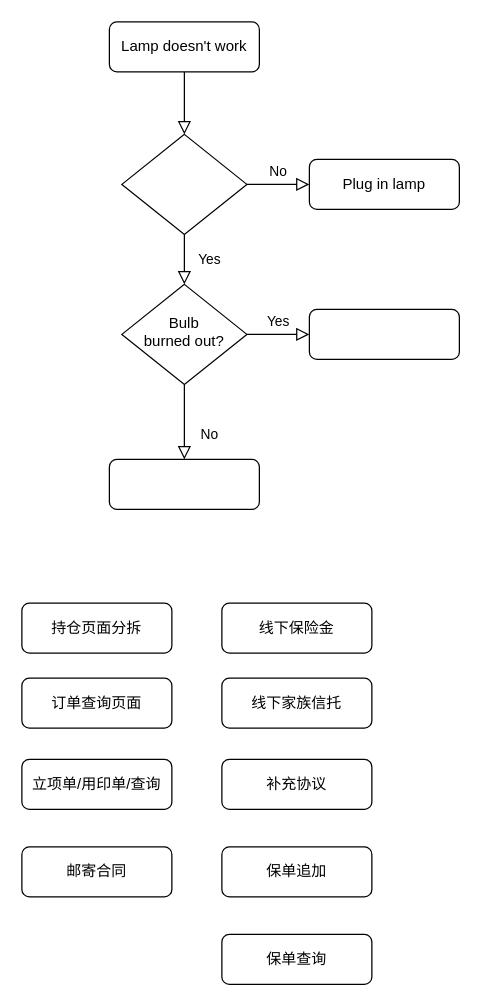
Image size: 481x1006. Some labels were removed from this diagram. Each missing label, with the centre of its shape:
"Lamp plugged in?" goes at [184,183].
"Repair Lamp" goes at [183,483].
"Replace Bulb" goes at [383,333].
